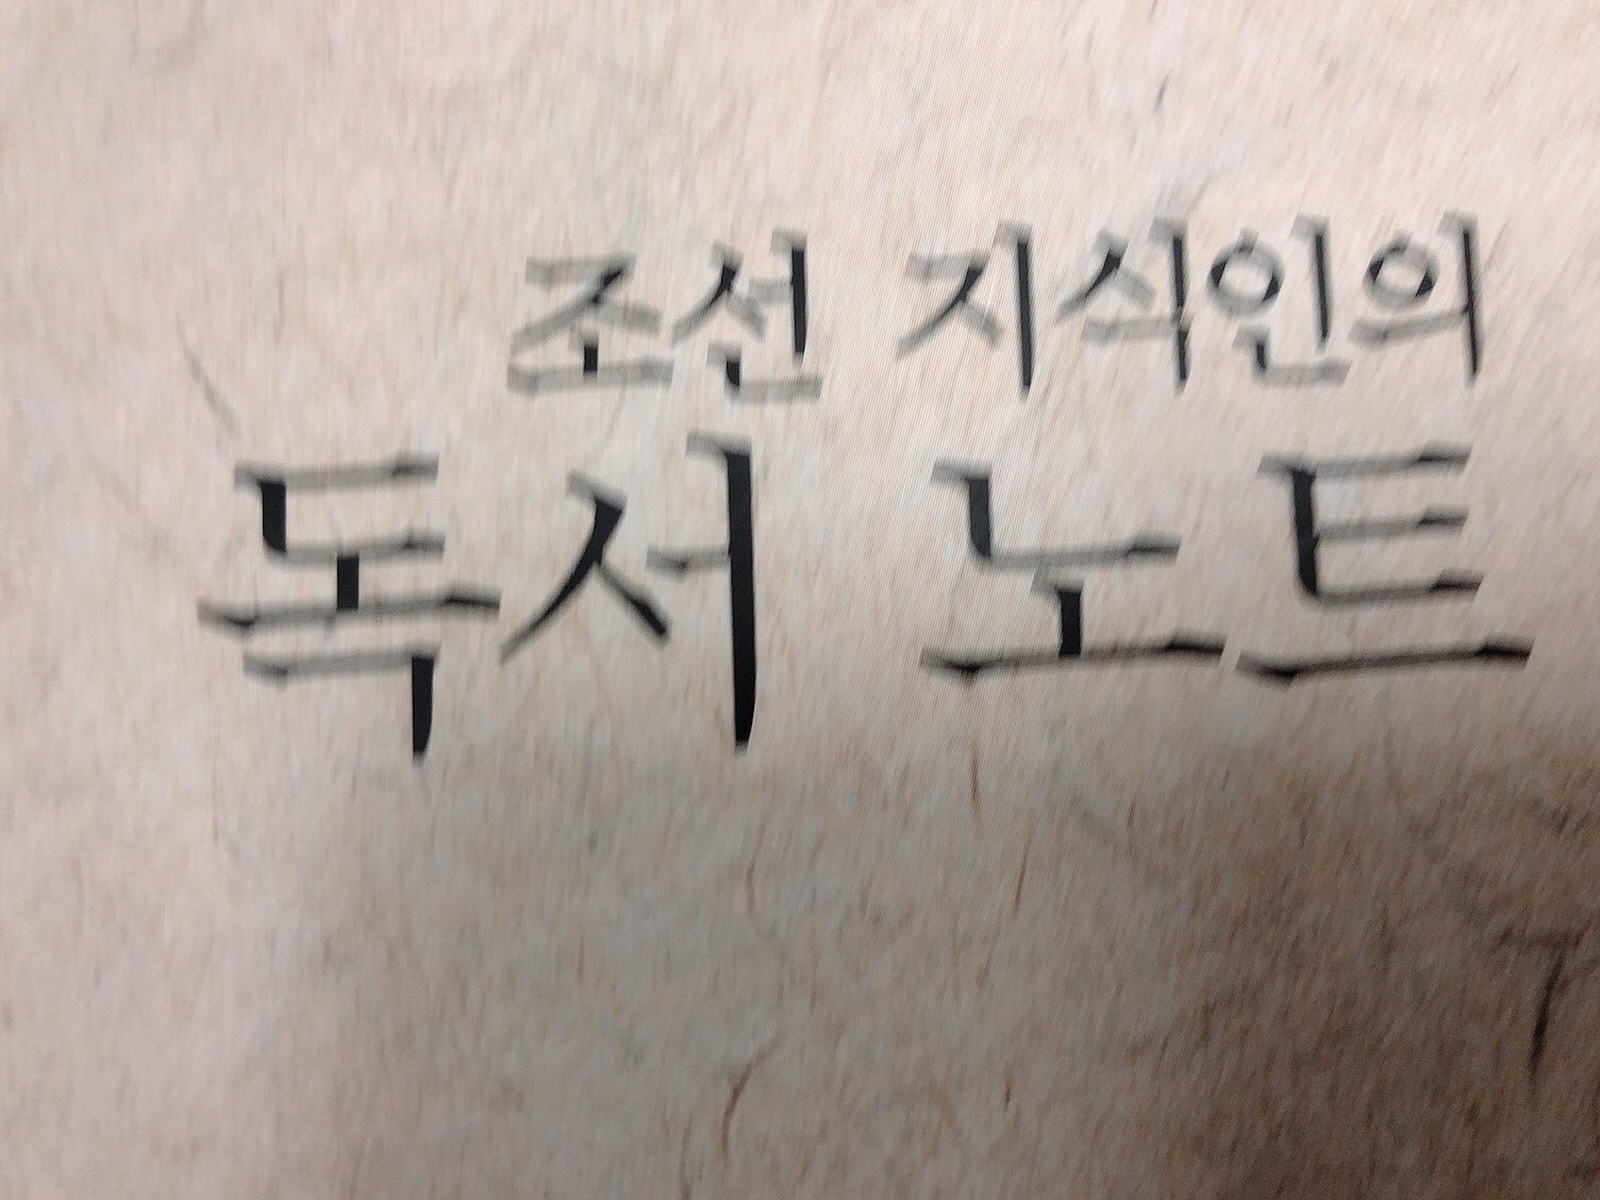text: (173, 427, 1551, 794), (445, 211, 1536, 410)
